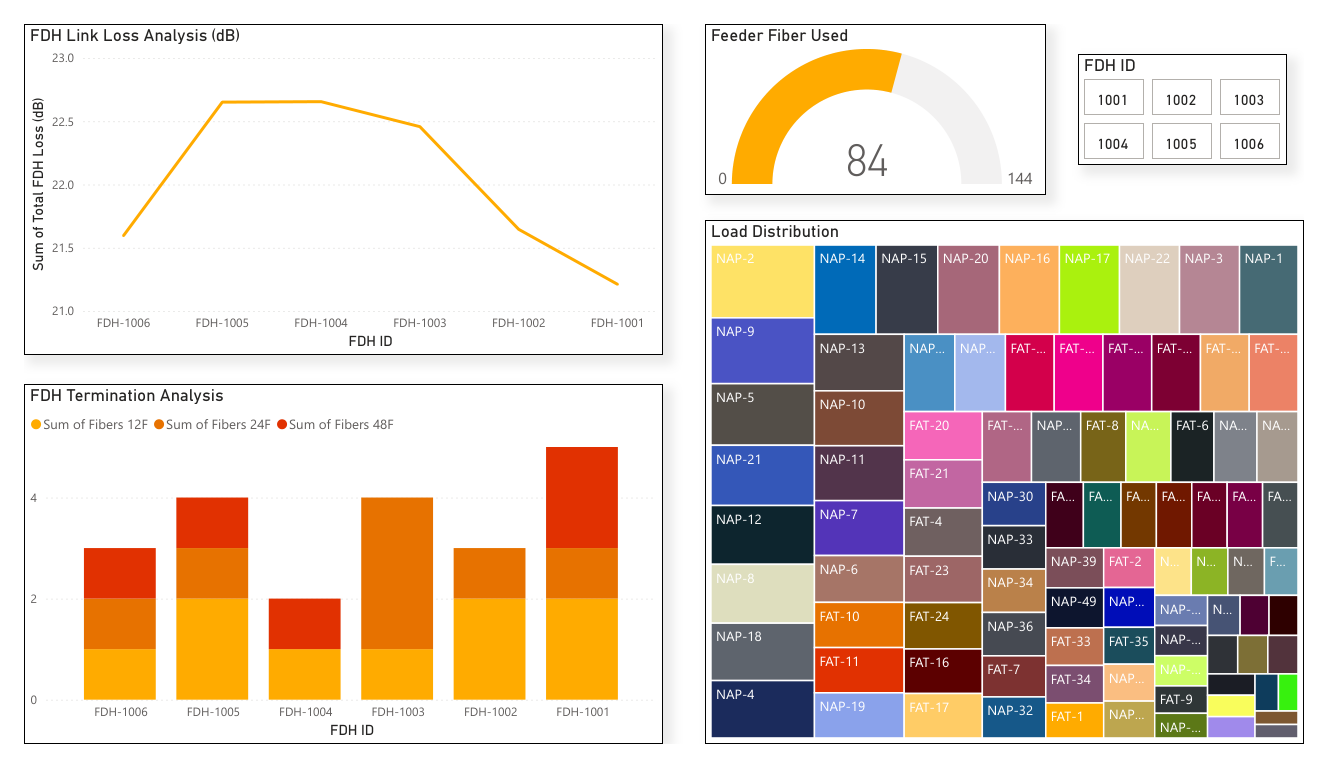

Layout of this report page (visuals, bound fields, positions):
{"tool":"powerbi","page":{"name":"Telecom Engineering Analytics","canvas":[1280,720],"ordinal":1},"visuals":[{"type":"lineChart","title":"FDH Link Loss Analysis (dB)","fields":{"Category":["Link_Loss_Budget.FDH ID"],"Y":["Sum(Link_Loss_Budget.Total FDH Loss (dB))"]},"box":[0,0,639.4,331.2],"z":0},{"type":"columnChart","title":"FDH Termination Analysis","fields":{"Category":["FDH_Termination.FDH ID"],"Y":["Sum(FDH_Termination.Fibers 12F)","Sum(FDH_Termination.Fibers 24F)","Sum(FDH_Termination.Fibers 48F)"]},"box":[0,360,639.4,360],"z":1000},{"type":"treemap","title":"Load Distribution","fields":{"Values":["Sum(FAT_Summary.Active Connections)"],"Details":["FAT_Summary.Node ID"]},"box":[681.1,195.8,599,524.2],"z":2000},{"type":"advancedSlicerVisual","fields":{"Values":["FAT_Summary.FDH ID"]},"box":[1054.1,30.2,208.8,110.9],"z":3000},{"type":"gauge","title":"Feeder Fiber Used","fields":{"Y":["Sum(BOQ_Summary.Used Cores)"],"MaxValue":["Sum(Table (2).Max Feeder Fiber Core)"]},"box":[681.1,0,341.3,171.4],"z":4000}]}

Visuals, with their boxes in screenshot pixels (x1, y1, x2, y2), scaled from the page's 1280x720 canvas onto the 1328x768 screenshot:
"FDH Link Loss Analysis (dB)" lineChart: <bbox>0, 0, 663, 353</bbox>
"FDH Termination Analysis" columnChart: <bbox>0, 384, 663, 767</bbox>
"Load Distribution" treemap: <bbox>707, 209, 1327, 767</bbox>
advancedSlicerVisual - FAT_Summary.FDH ID: <bbox>1094, 32, 1310, 151</bbox>
"Feeder Fiber Used" gauge: <bbox>707, 0, 1061, 183</bbox>
